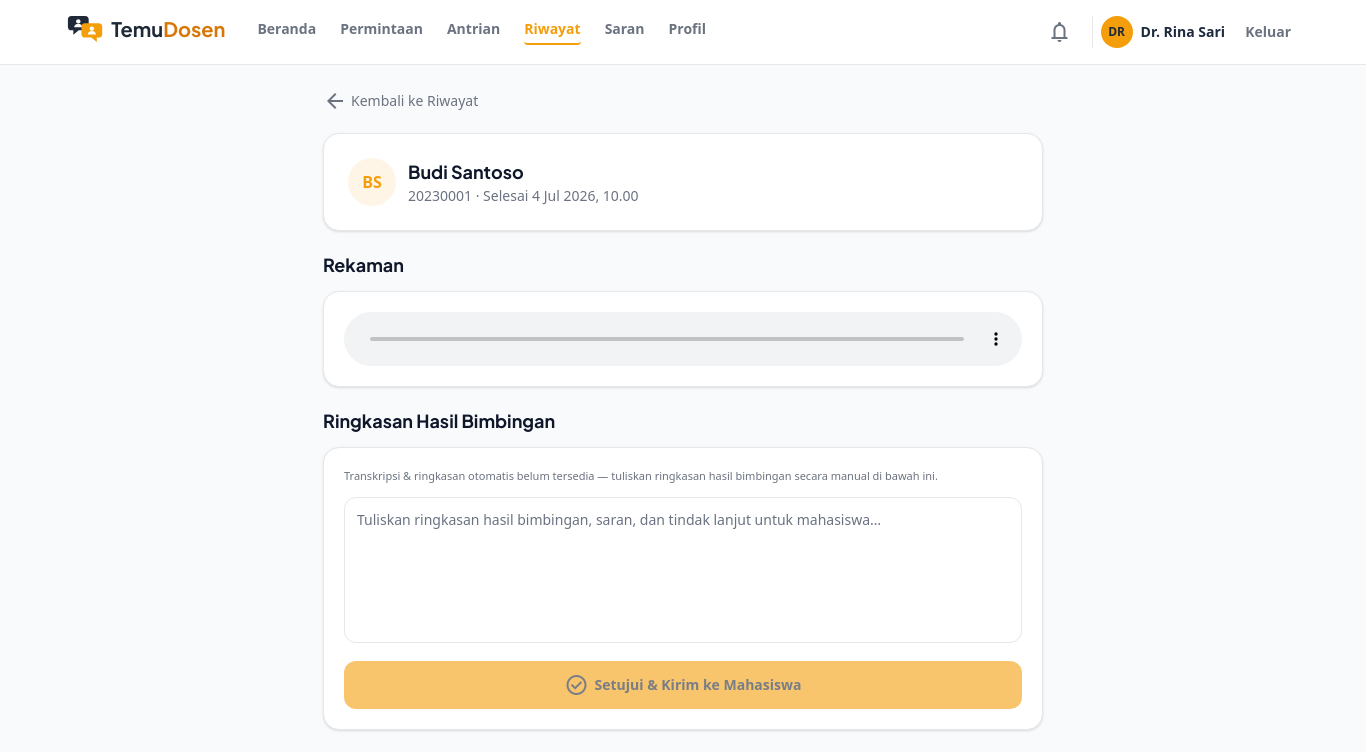
LecturerSessionDetail › approving a pending logbook posts manual notes and shows the approved badge
The width and height of the screenshot is (1366, 752).
Check: the text "Budi Santoso" is shown, box [408, 160, 524, 183]
Replace the text in the text box with placeholder "Tuliskan ringkasan" with "Sudah bagus.": (683, 570) [344, 496, 1022, 642]
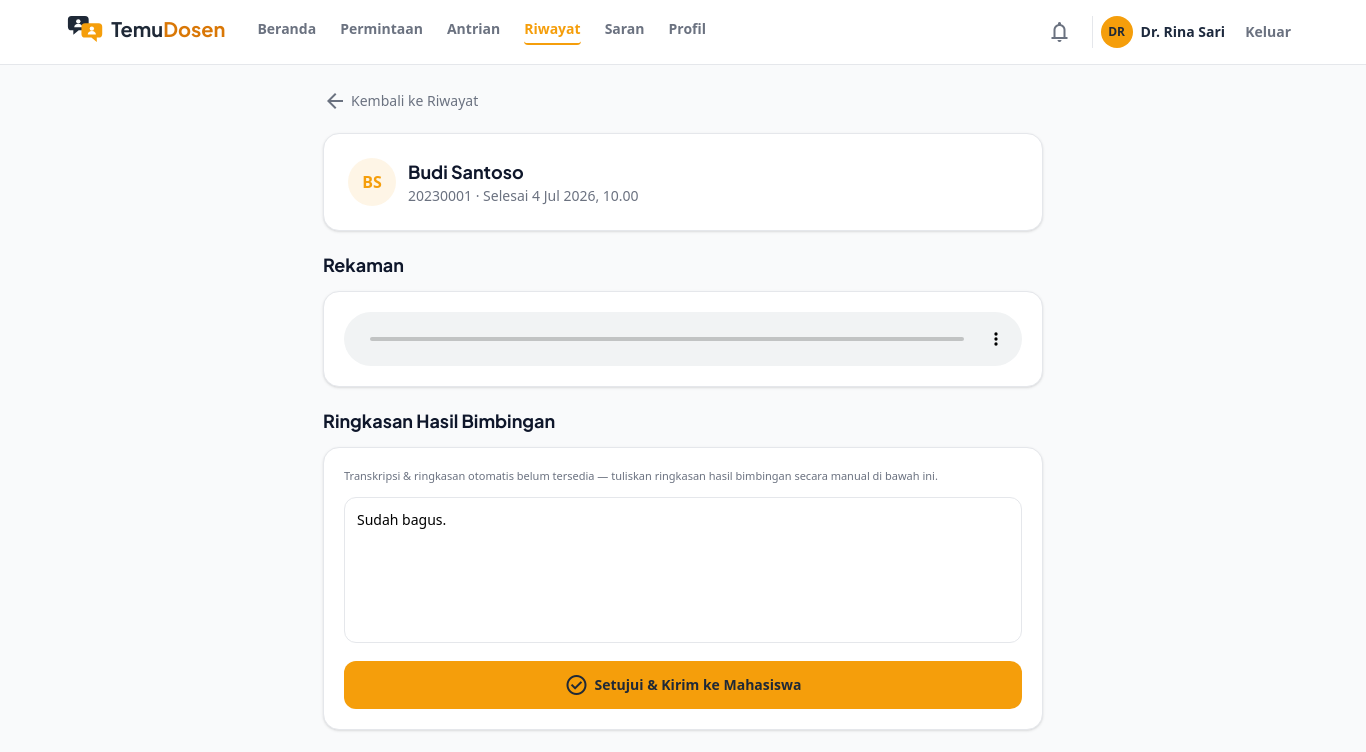
Click the button "Setujui & Kirim ke Mahasiswa": (683, 684) [344, 660, 1022, 708]
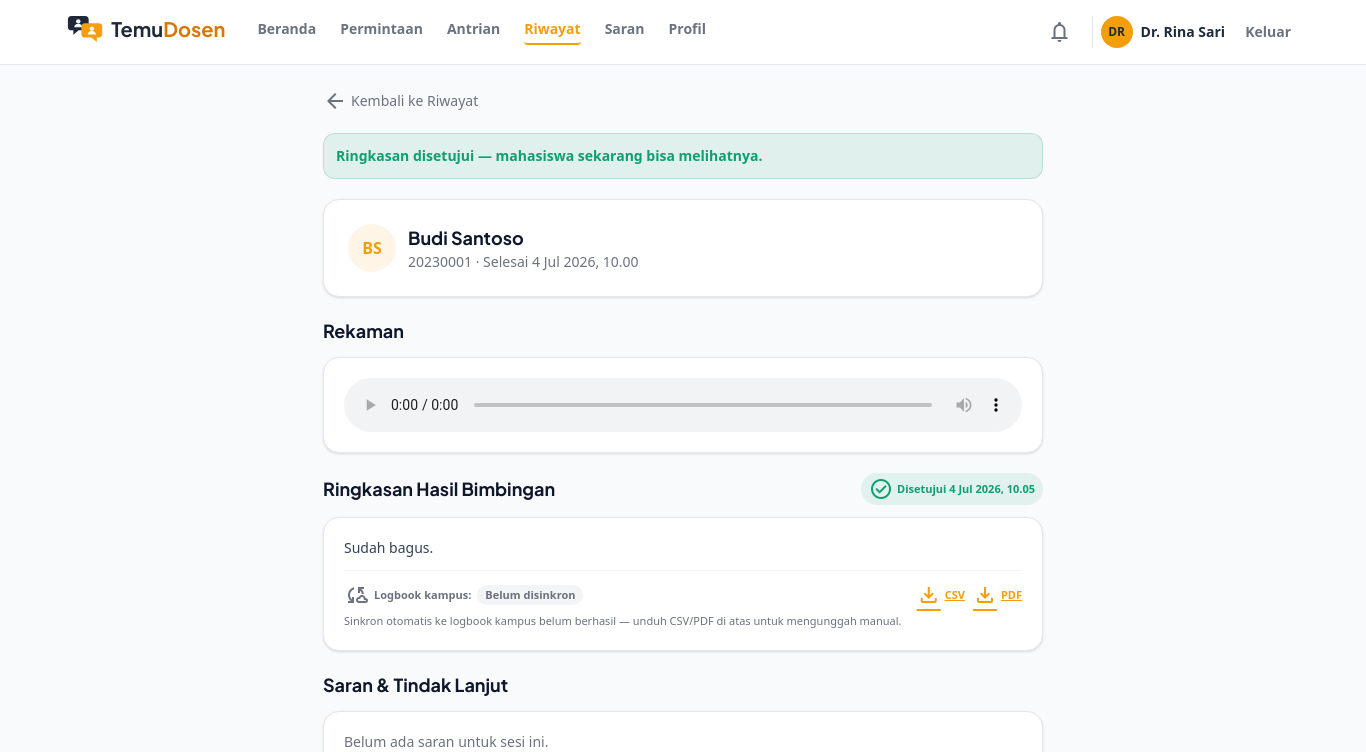
Check: the text "Disetujui 4 Jul 2026, 10.05" is shown, box [861, 473, 1043, 505]
